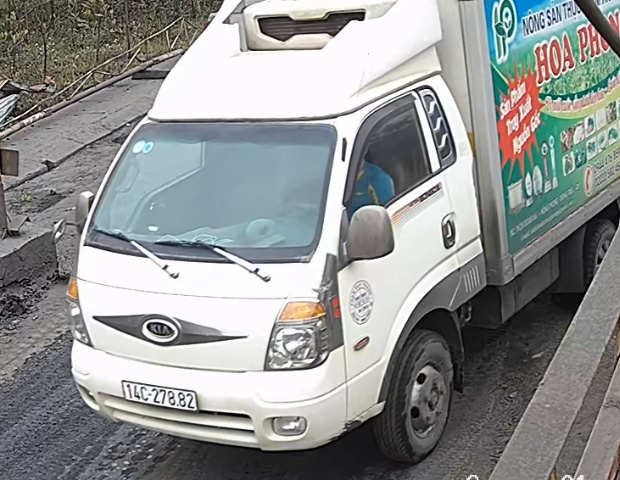vehicle plate: (118, 376, 202, 412)
